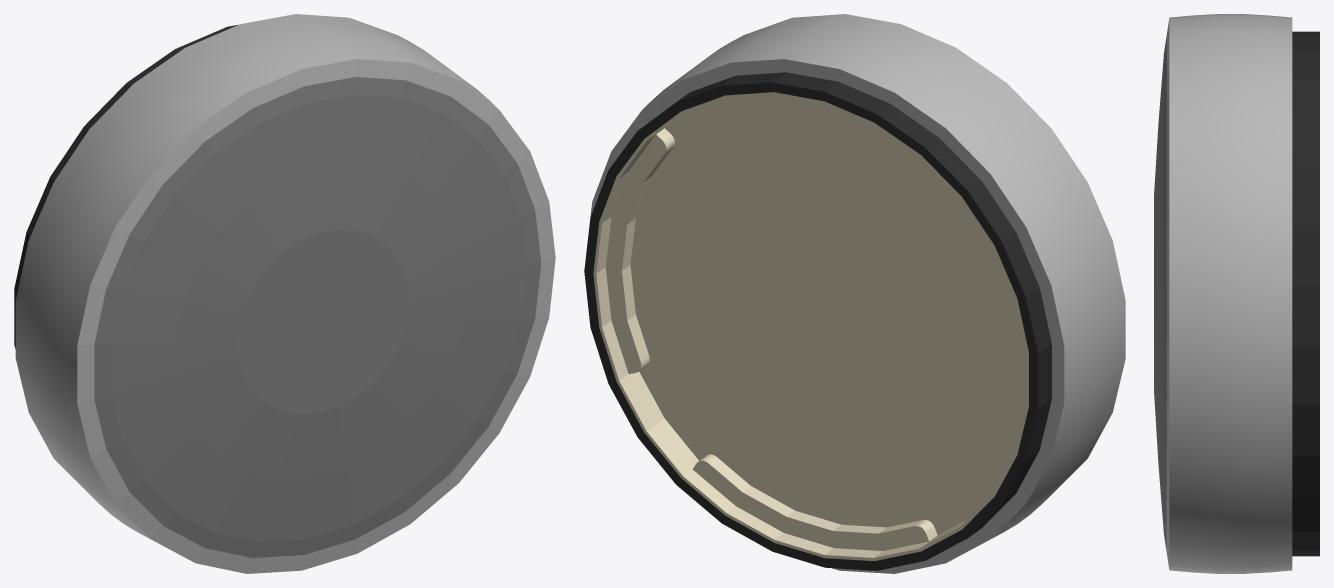
File: thermostat.FBX
3 renders of one model, left to right at view 1: azimuth 30°, elevation 25°; view 2: azimuth 150°, elevation 25°; view 3: azimuth 270°, elevation 25°, orthographic.
Parts seen in each view (by area): view 1: Object01, Cylinder01, Object03; view 2: Object04, Cylinder01, Object02, Object03; view 3: Cylinder01, Object03, Object01.
Part boxes in pixels (<box>): Object01: <box>94,77,541,557</box>; Cylinder01: <box>15,14,555,573</box>; Object03: <box>14,24,238,348</box>; Object04: <box>630,98,1019,534</box>; Cylinder01: <box>590,14,1125,573</box>; Object02: <box>593,92,1028,560</box>; Object03: <box>584,72,1051,570</box>; Cylinder01: <box>1166,14,1292,573</box>; Object03: <box>1292,31,1319,556</box>; Object01: <box>1154,37,1166,550</box>.
Size of the model in its own units: 67800 by 20105 by 67915.
